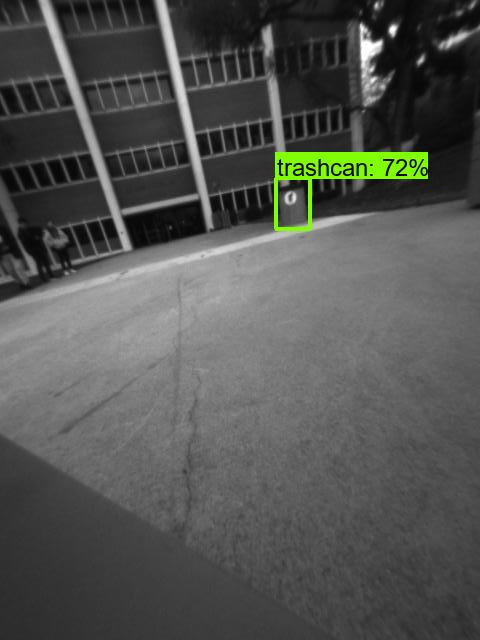trashcan: (275, 181, 311, 227)
